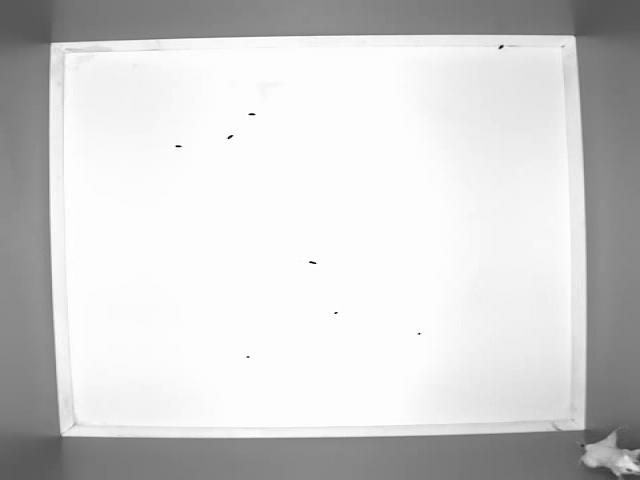Tikus: (546, 416, 640, 480)
